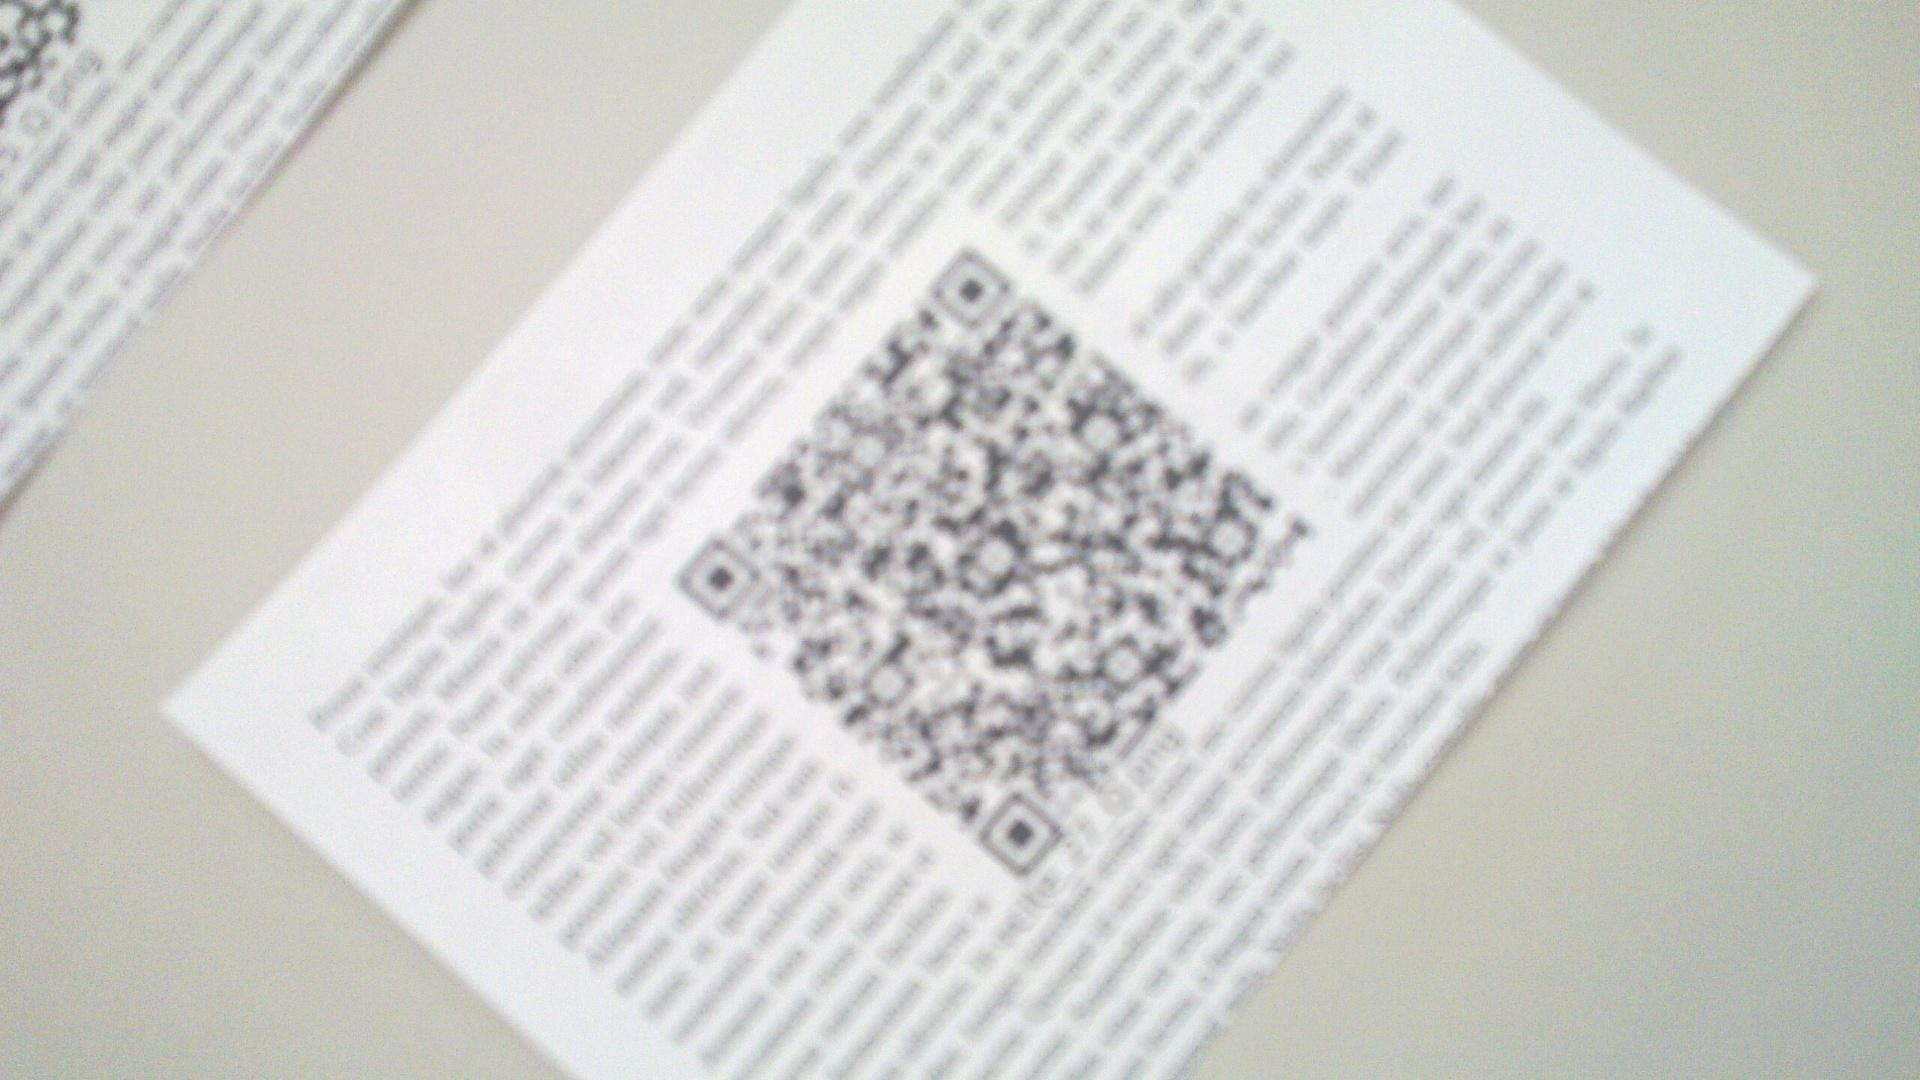Finder pattern: (972, 789, 1063, 880), (928, 247, 1014, 326), (676, 541, 757, 620)
